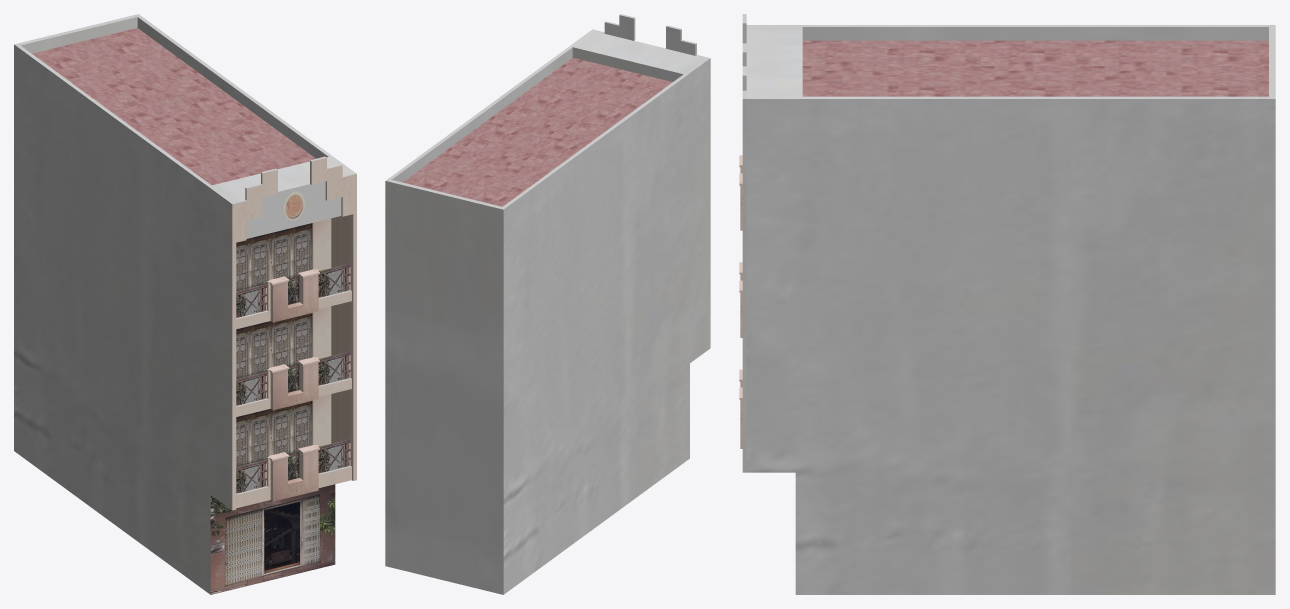
3 renders of one model, left to right at view 1: azimuth 30°, elevation 25°; view 2: azimuth 150°, elevation 25°; view 3: azimuth 270°, elevation 25°, orthographic. The views are drawn at different scales.
Visible parts, largest first — view 1: 5cd2a593b8bbab4b10f5a2d9.001; view 2: 5cd2a593b8bbab4b10f5a2d9.001; view 3: 5cd2a593b8bbab4b10f5a2d9.001.
Boxes of the visible parts, x1,y1,x2,y2 form: 5cd2a593b8bbab4b10f5a2d9.001: (14,14,356,594); 5cd2a593b8bbab4b10f5a2d9.001: (385,14,710,594); 5cd2a593b8bbab4b10f5a2d9.001: (739,14,1275,594).
Size of the model in its own units: 5.2 by 17.15 by 15.89.
Materials: 1 (1 with a texture image).
